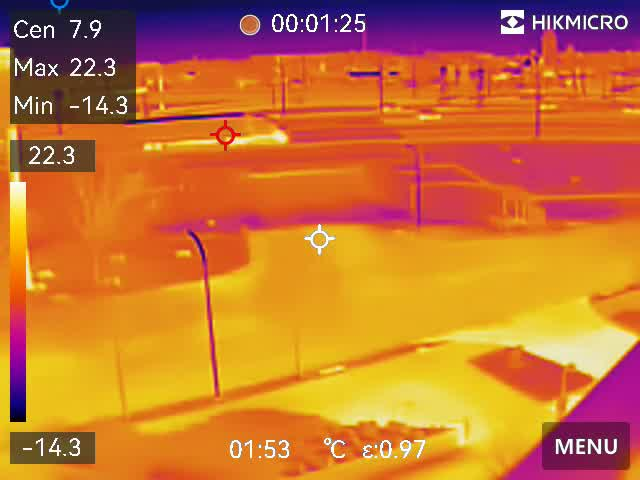heavyTruck: (125, 113, 292, 150)
vehicle: (375, 102, 404, 116), (415, 109, 444, 123), (534, 102, 565, 114)
